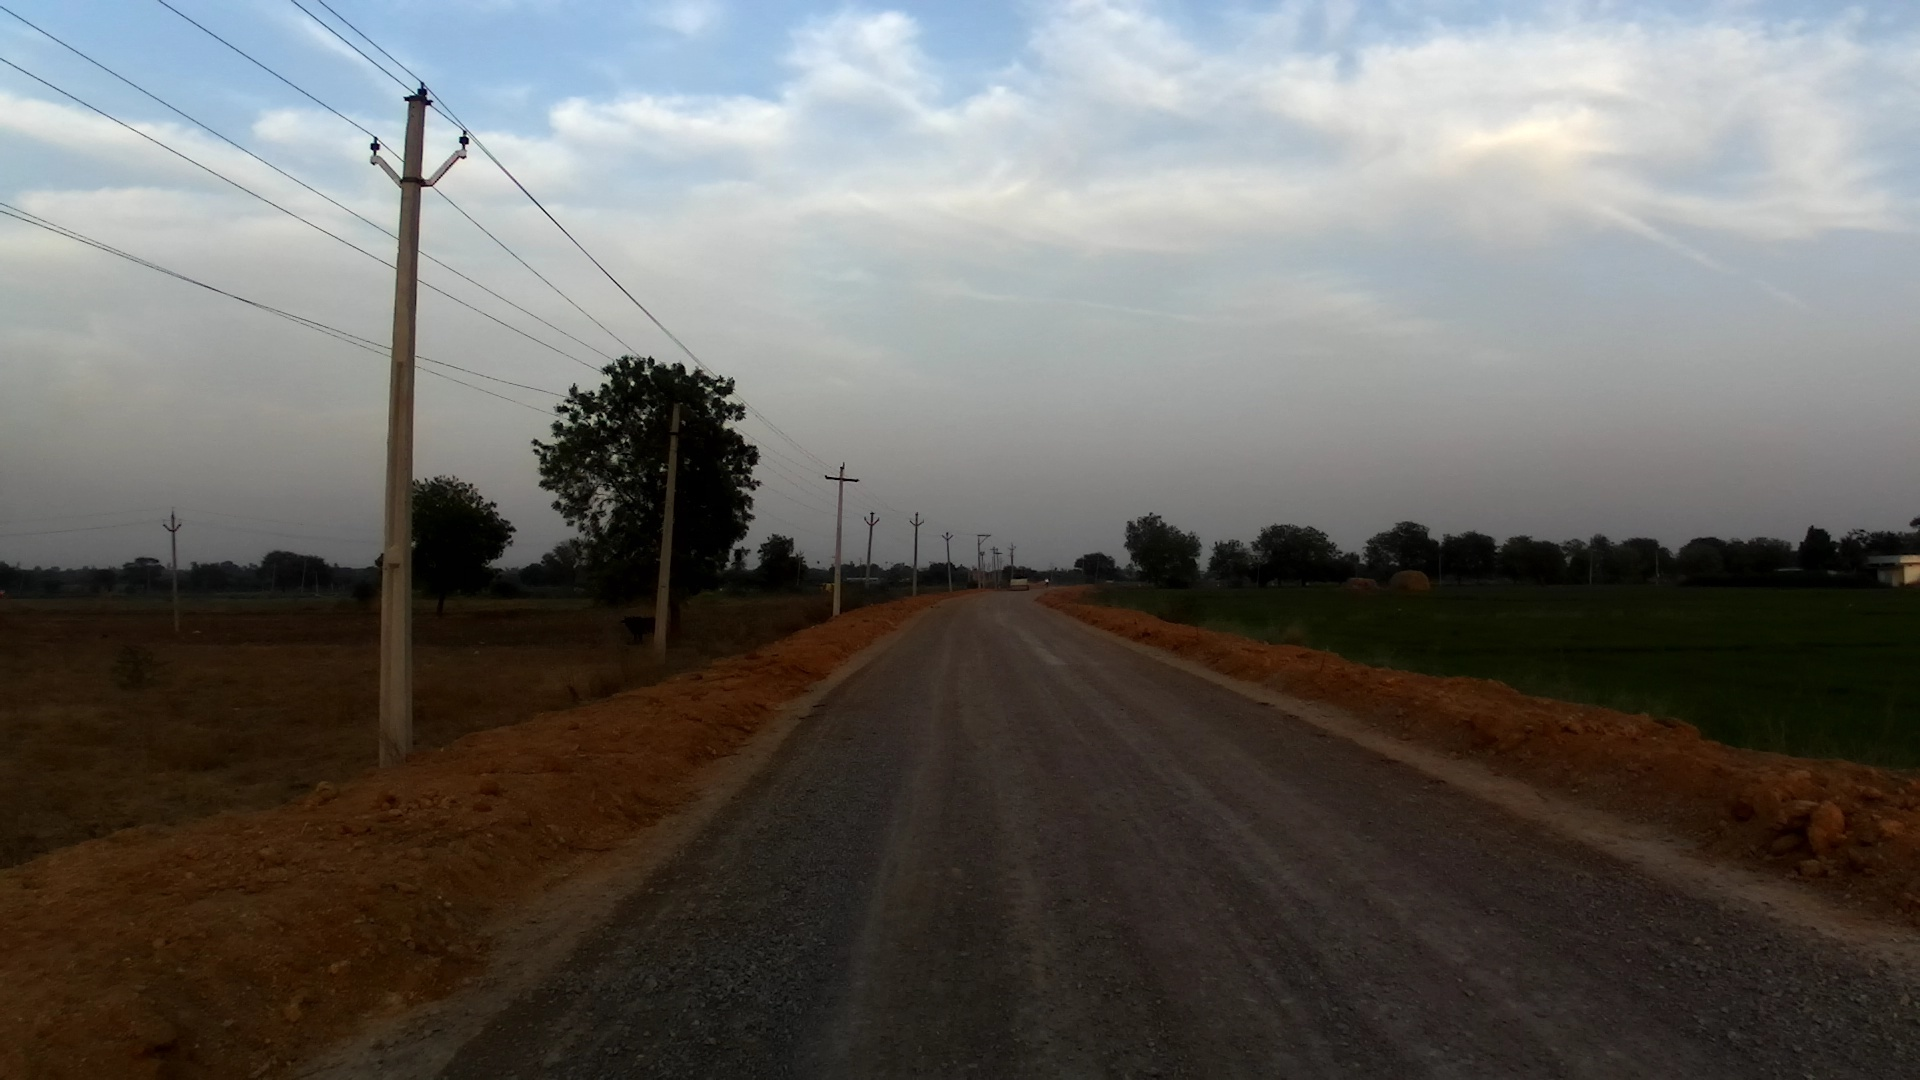animal: (623, 611, 663, 642)
car: (1012, 575, 1030, 595)
person: (1042, 578, 1051, 593)
